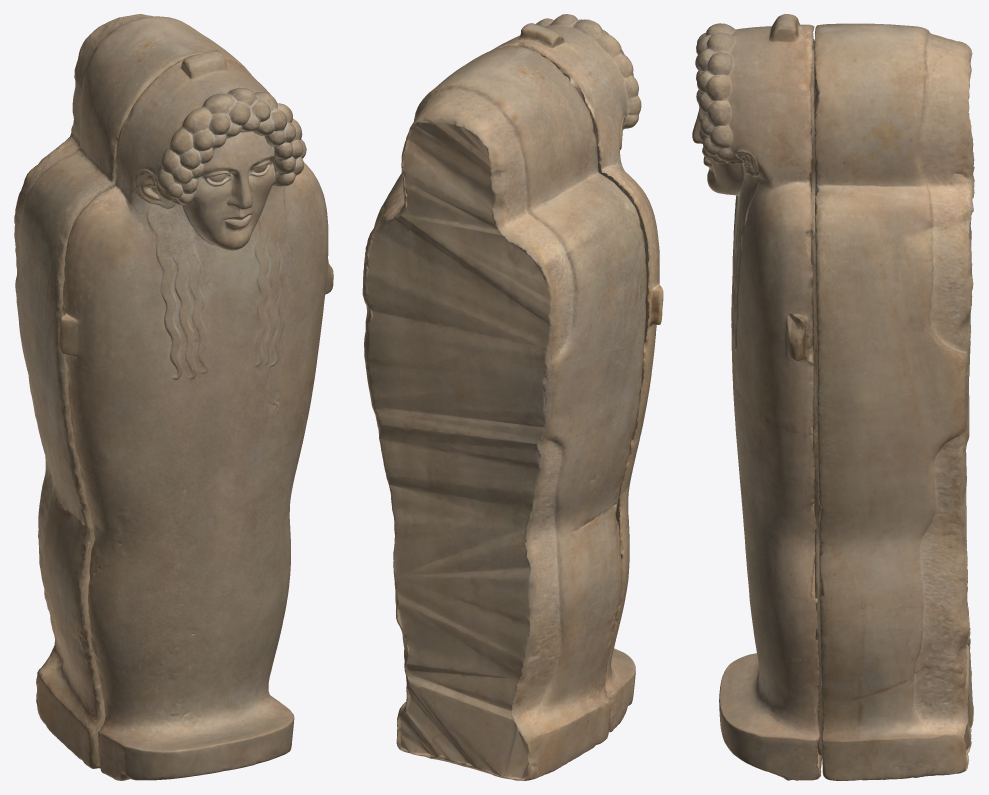
File: preview.glb
The picture shows the model from 3 angles, left to right: view 1: azimuth 30°, elevation 25°; view 2: azimuth 150°, elevation 25°; view 3: azimuth 270°, elevation 25°; orthographic projection. The views are drawn at different scales.
Visible parts, largest first — view 1: Polygonal_Model_2_ADVIMG_74_51_2454_MarbleAnthropoidSarcopha; view 2: Polygonal_Model_2_ADVIMG_74_51_2454_MarbleAnthropoidSarcopha; view 3: Polygonal_Model_2_ADVIMG_74_51_2454_MarbleAnthropoidSarcopha.
Boxes of the visible parts, left/top/right/bottom form: Polygonal_Model_2_ADVIMG_74_51_2454_MarbleAnthropoidSarcopha: left=14, top=14, right=333, bottom=780; Polygonal_Model_2_ADVIMG_74_51_2454_MarbleAnthropoidSarcopha: left=362, top=14, right=663, bottom=780; Polygonal_Model_2_ADVIMG_74_51_2454_MarbleAnthropoidSarcopha: left=692, top=14, right=974, bottom=780.
Size of the model in its own units: 0.8599 by 2.18 by 0.7636.
2 materials, 2 textured.
